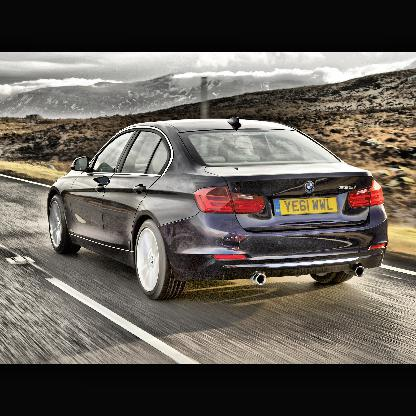BMW 3 Series Sedan 2012: (47, 118, 389, 303)
